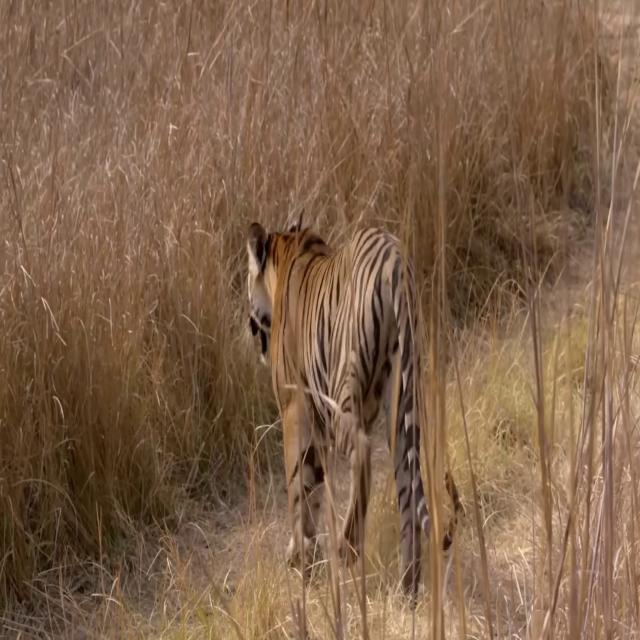tiger: (246, 206, 460, 608)
